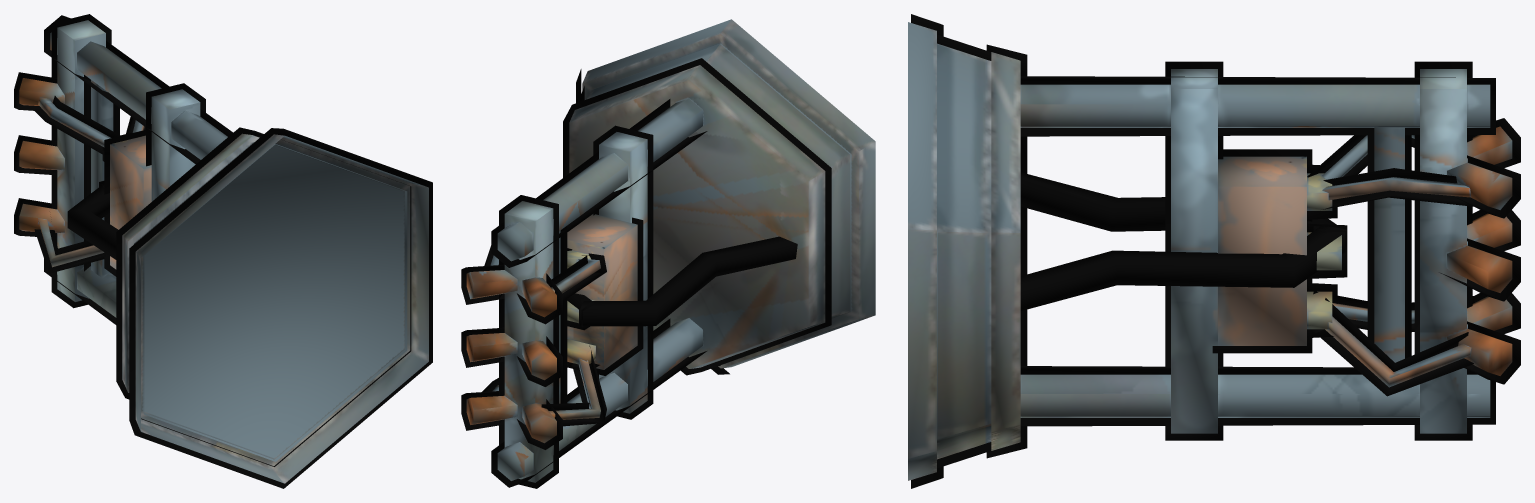
The model's file is electricPole.fbx.
The picture shows the model from 3 angles, left to right: view 1: azimuth 30°, elevation 25°; view 2: azimuth 150°, elevation 25°; view 3: azimuth 270°, elevation 25°; orthographic projection. The views are drawn at different scales.
Visible parts, largest first — view 1: Building.003; view 2: Building.003; view 3: Building.003.
Boxes of the visible parts, left/top/right/bottom form: Building.003: left=14, top=14, right=432, bottom=488; Building.003: left=461, top=19, right=875, bottom=488; Building.003: left=908, top=14, right=1520, bottom=488.
Size of the model in its own units: 78.06 by 90.14 by 105.
